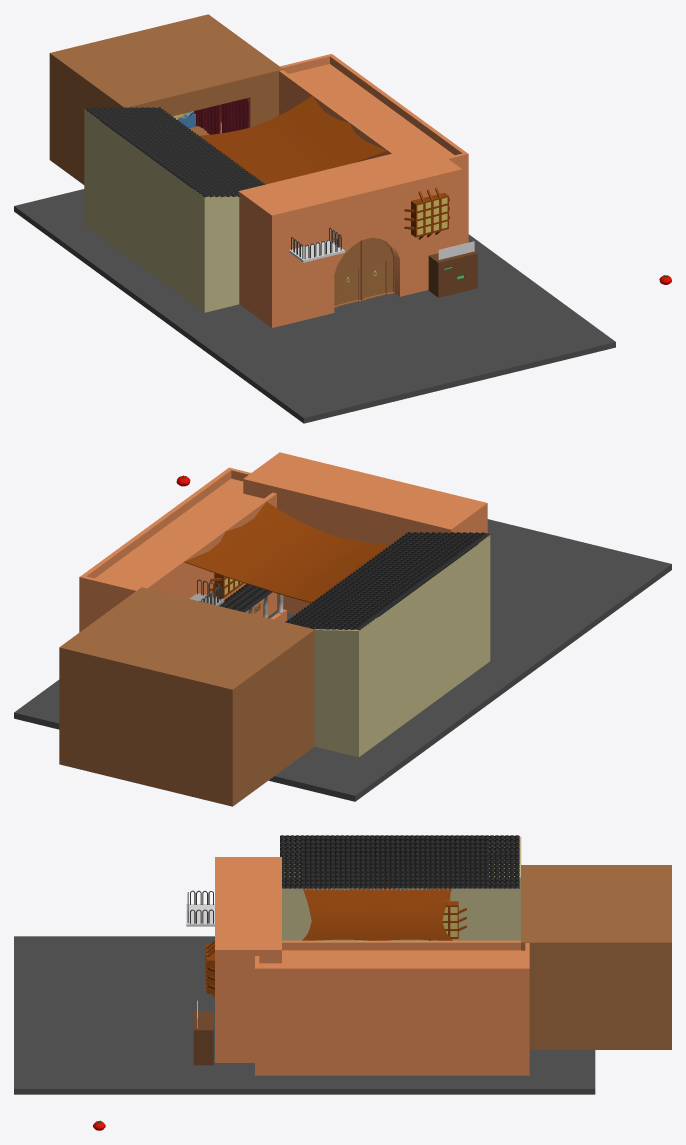
Rendered from Teatro2.fbx.
3 renders of one model, top to bottom at view 1: azimuth 30°, elevation 25°; view 2: azimuth 150°, elevation 25°; view 3: azimuth 270°, elevation 25°, orthographic. The views are drawn at different scales.
Parts seen in each view (by area): view 1: Suelo, Cube.012, Cube.004, Cube, Torus.001, Capota, Cube.003, Cube.030, Cube.014, Cube.029, Plane.003, Cube.124 (+1 smaller); view 2: Cube.004, Suelo, Cube, Cube.012, Torus.001, Capota, Cube.003, Cube.007; view 3: Suelo, Torus.001, Cube.004, Cube.003, Cube.012, Capota, Cube, Cube.014, Plane, Cube.021, Cube.026, Cube.029.
Boxes of the visible parts, x1,y1,x2,y2 form: Suelo: (14,189,615,423); Cube.012: (238,145,462,327); Cube.004: (49,14,283,184); Cube: (84,109,239,312); Torus.001: (279,54,468,243); Capota: (198,96,387,184); Cube.003: (85,107,265,197); Cube.030: (334,237,394,307); Cube.014: (428,251,477,297); Cube.029: (404,187,449,239); Plane.003: (194,98,249,134); Cube.124: (337,261,385,306); Cube.004: (59,587,314,806); Suelo: (14,519,671,801); Cube: (314,535,490,757); Cube.012: (243,452,487,614); Torus.001: (79,467,276,632); Capota: (184,501,391,602); Cube.003: (285,532,490,630); Cube.007: (219,584,272,612); Suelo: (14,936,595,1094); Torus.001: (255,940,529,1075); Cube.004: (521,865,671,1049); Cube.003: (280,835,519,888); Cube.012: (215,857,281,1062); Capota: (302,888,452,940); Cube: (280,836,521,940); Cube.014: (193,1011,213,1065); Plane: (304,835,485,885); Cube.021: (428,893,466,940); Cube.026: (186,904,214,926); Cube.029: (205,940,214,996).
Size of the model in its own units: 12608 by 3598 by 17471.
